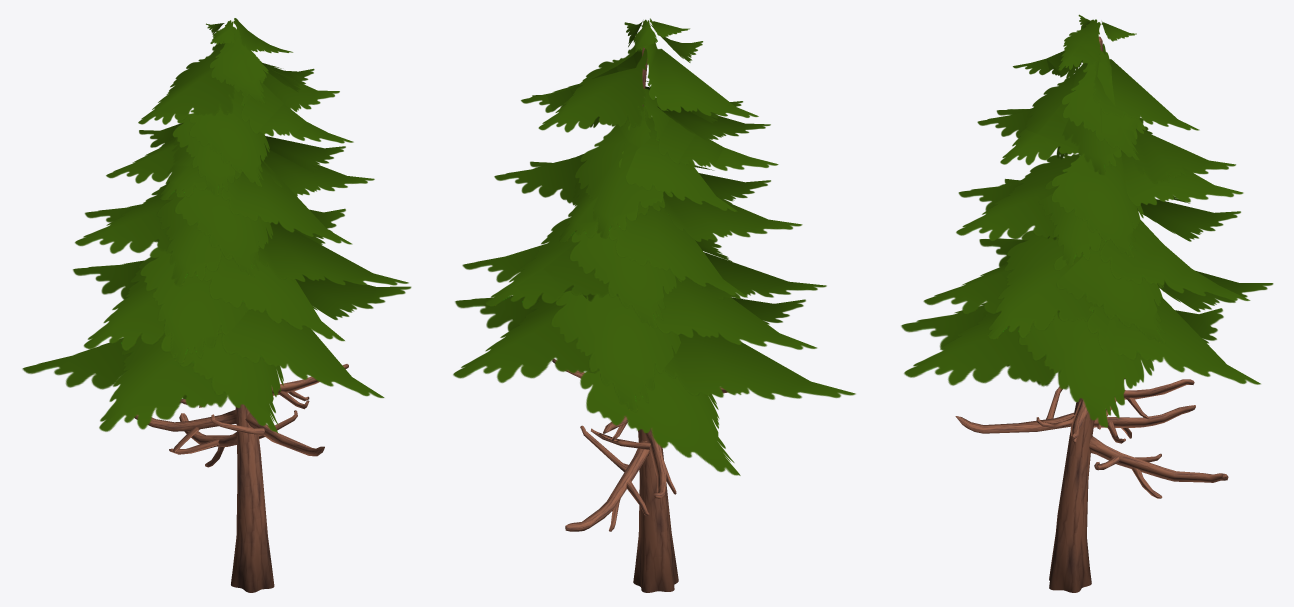
The model's file is pine3.glb.
3 renders of one model, left to right at view 1: azimuth 30°, elevation 25°; view 2: azimuth 150°, elevation 25°; view 3: azimuth 270°, elevation 25°, orthographic. The views are drawn at different scales.
Parts seen in each view (by area): view 1: Pine_1; view 2: Pine_1; view 3: Pine_1.
Boxes of the visible parts, x1,y1,x2,y2 form: Pine_1: [22, 18, 411, 592]; Pine_1: [453, 18, 855, 592]; Pine_1: [901, 14, 1273, 592].
Size of the model in its own units: 4.94 by 7.32 by 4.54.
Materials: 2 (2 with a texture image).
